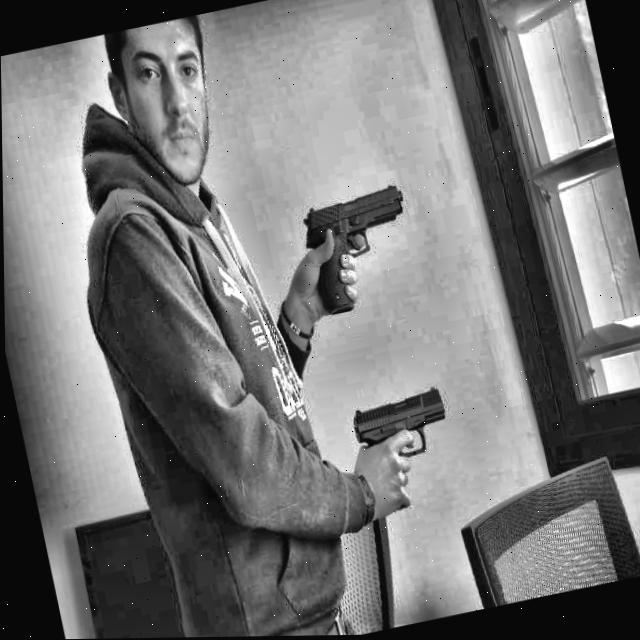pistol: (330, 375, 469, 534)
